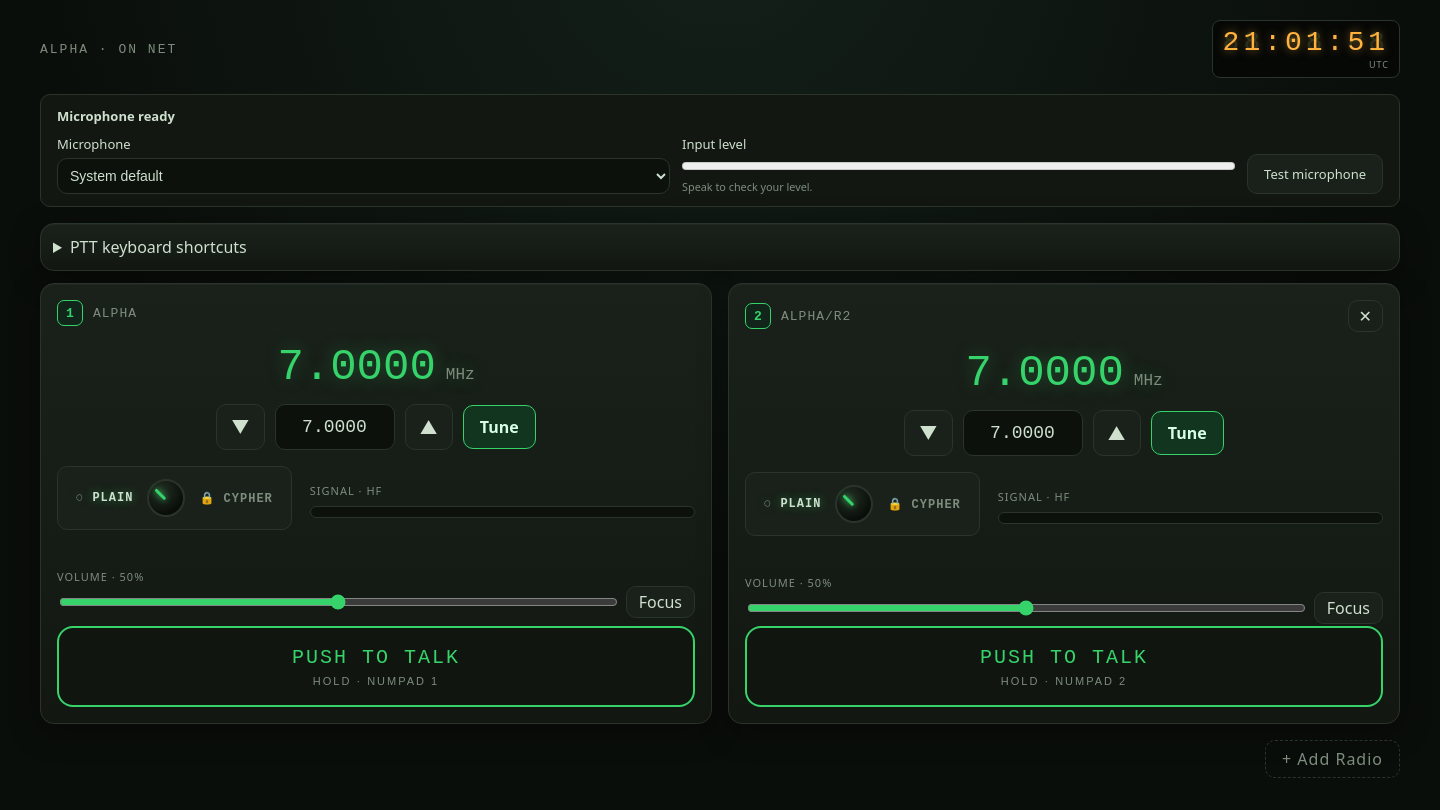
Test case: Radio › mutes every other radio while one is focused, and unmutes on a second click
Note: Focus radio 2: radio 1 goes silent, radio 2 is left playing as it was.
Step 1. Click the button with aria-label "Focus ALPHA/R2" → x=1348, y=608, box [1314,592,1383,624]
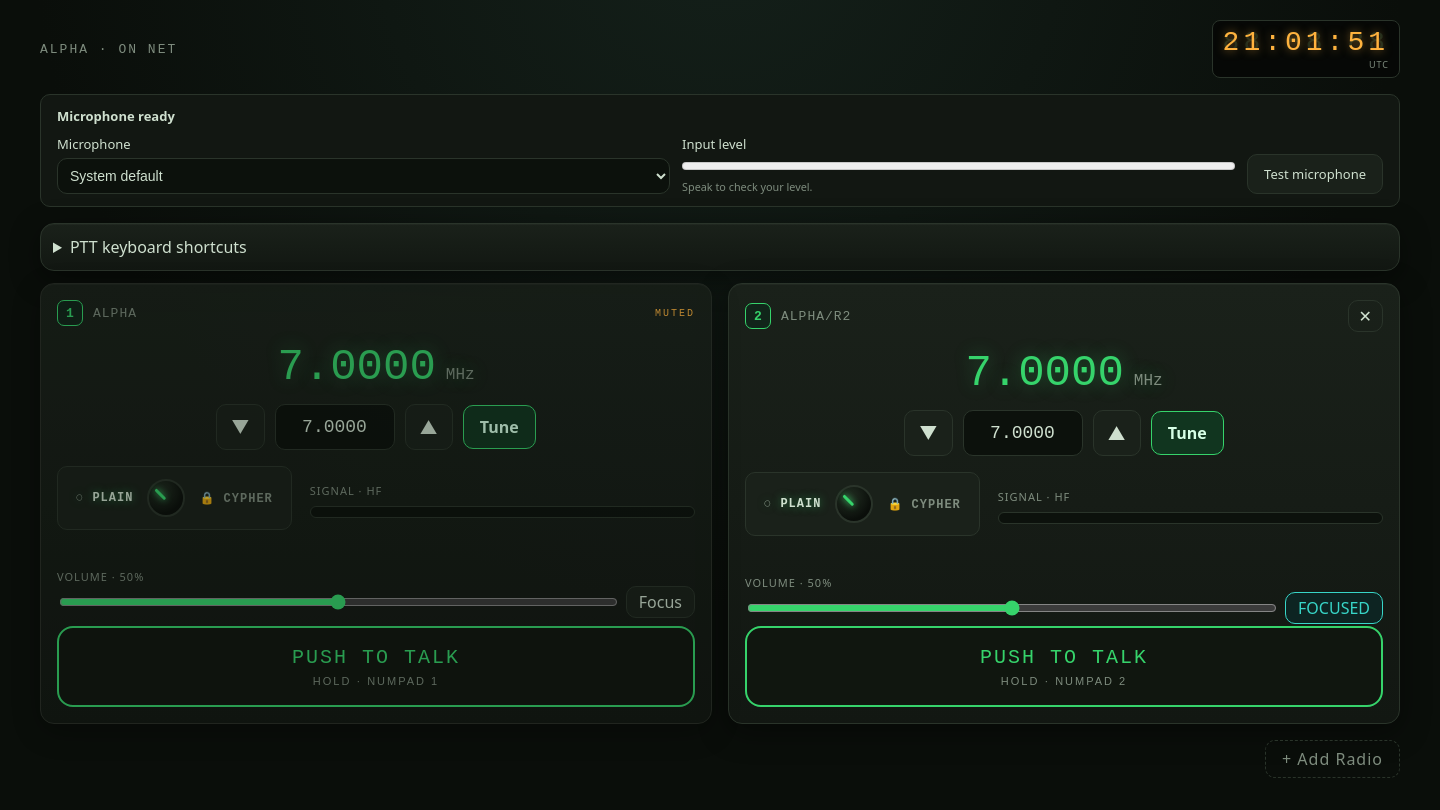
Expected: the text "MUTED" is shown, [655,308,695,318]
Step 2. Click the button with aria-label "Focus ALPHA/R2" → x=1334, y=608, box [1285,592,1383,624]
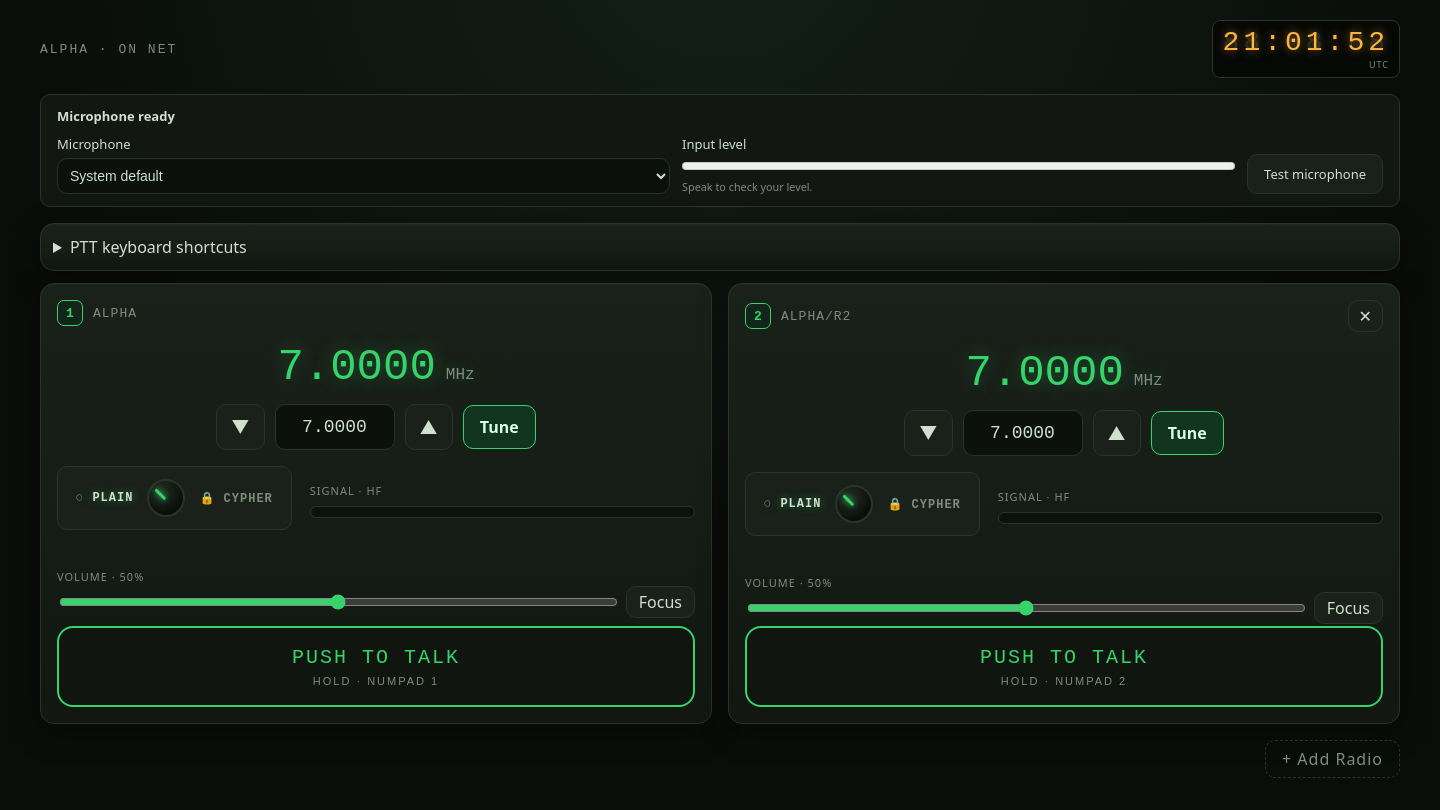
Expected: the text "MUTED" is gone
